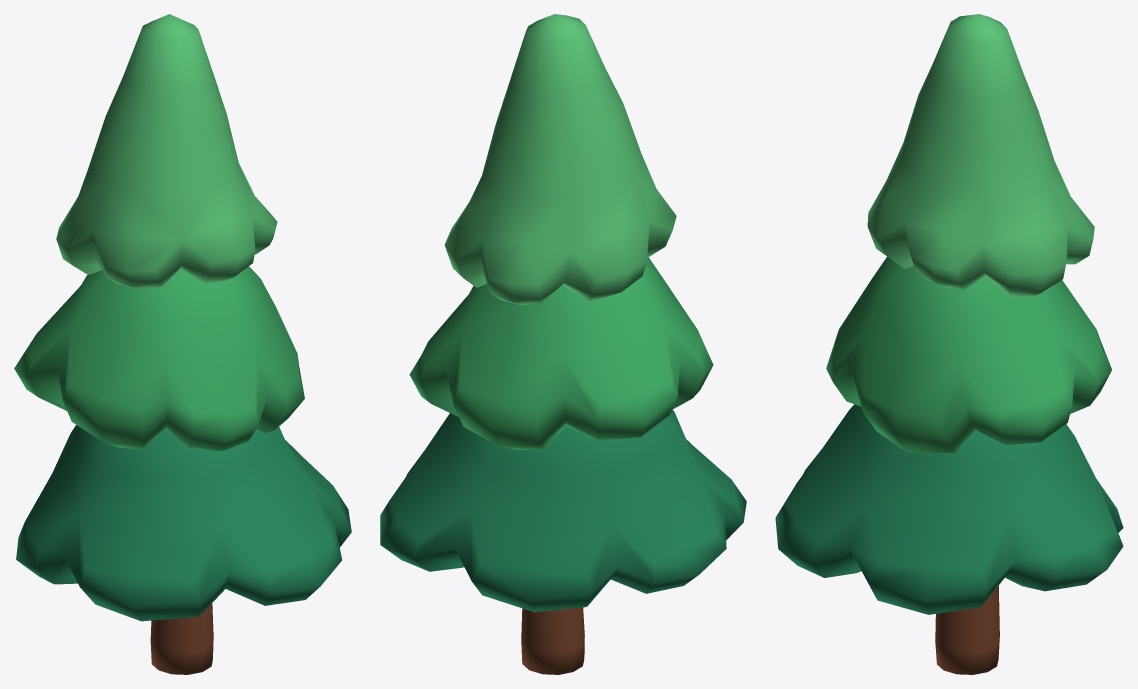
The model's file is Conifer_03_LOD2.gltf.
3 views of the same model, side by side, from view 1: azimuth 30°, elevation 25°; view 2: azimuth 150°, elevation 25°; view 3: azimuth 270°, elevation 25° (orthographic).
Visible parts, largest first — view 1: Conifer_03_LOD2_Cylinder.610; view 2: Conifer_03_LOD2_Cylinder.610; view 3: Conifer_03_LOD2_Cylinder.610.
Part boxes in pixels (x1,y1,x2,y2): Conifer_03_LOD2_Cylinder.610: [14, 14, 351, 674]; Conifer_03_LOD2_Cylinder.610: [380, 14, 746, 674]; Conifer_03_LOD2_Cylinder.610: [775, 14, 1123, 674].
Bounding box in the file's own units: 4.97 × 10.1 × 4.93.
Materials: 1 (1 with a texture image).
